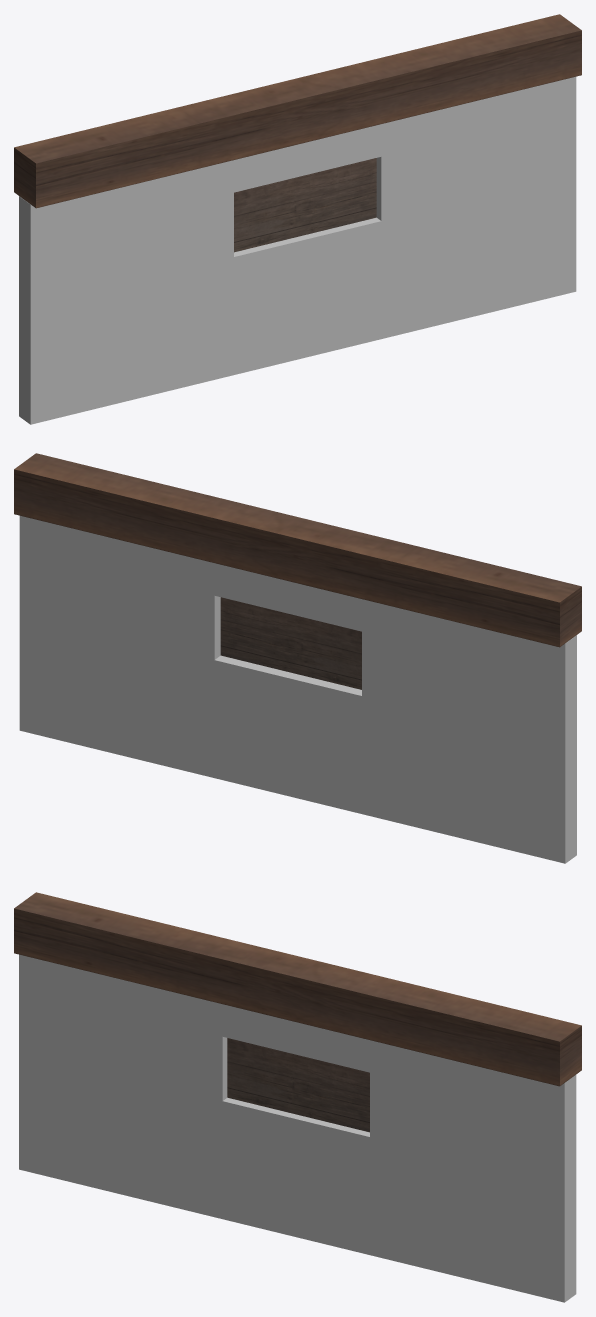
Rendered from jov_lowwall_1t02.fbx.
3 views of the same model, one above another, from view 1: azimuth 30°, elevation 25°; view 2: azimuth 150°, elevation 25°; view 3: azimuth 330°, elevation 25° (orthographic).
Visible parts, largest first — view 1: jov_lowwall_1t02; view 2: jov_lowwall_1t02; view 3: jov_lowwall_1t02.
Boxes of the visible parts, <box> form: jov_lowwall_1t02: <box>14,14,581,424</box>; jov_lowwall_1t02: <box>14,453,581,863</box>; jov_lowwall_1t02: <box>14,892,581,1302</box>.
Bounding box in the file's own units: 217 × 101 × 15.26.
